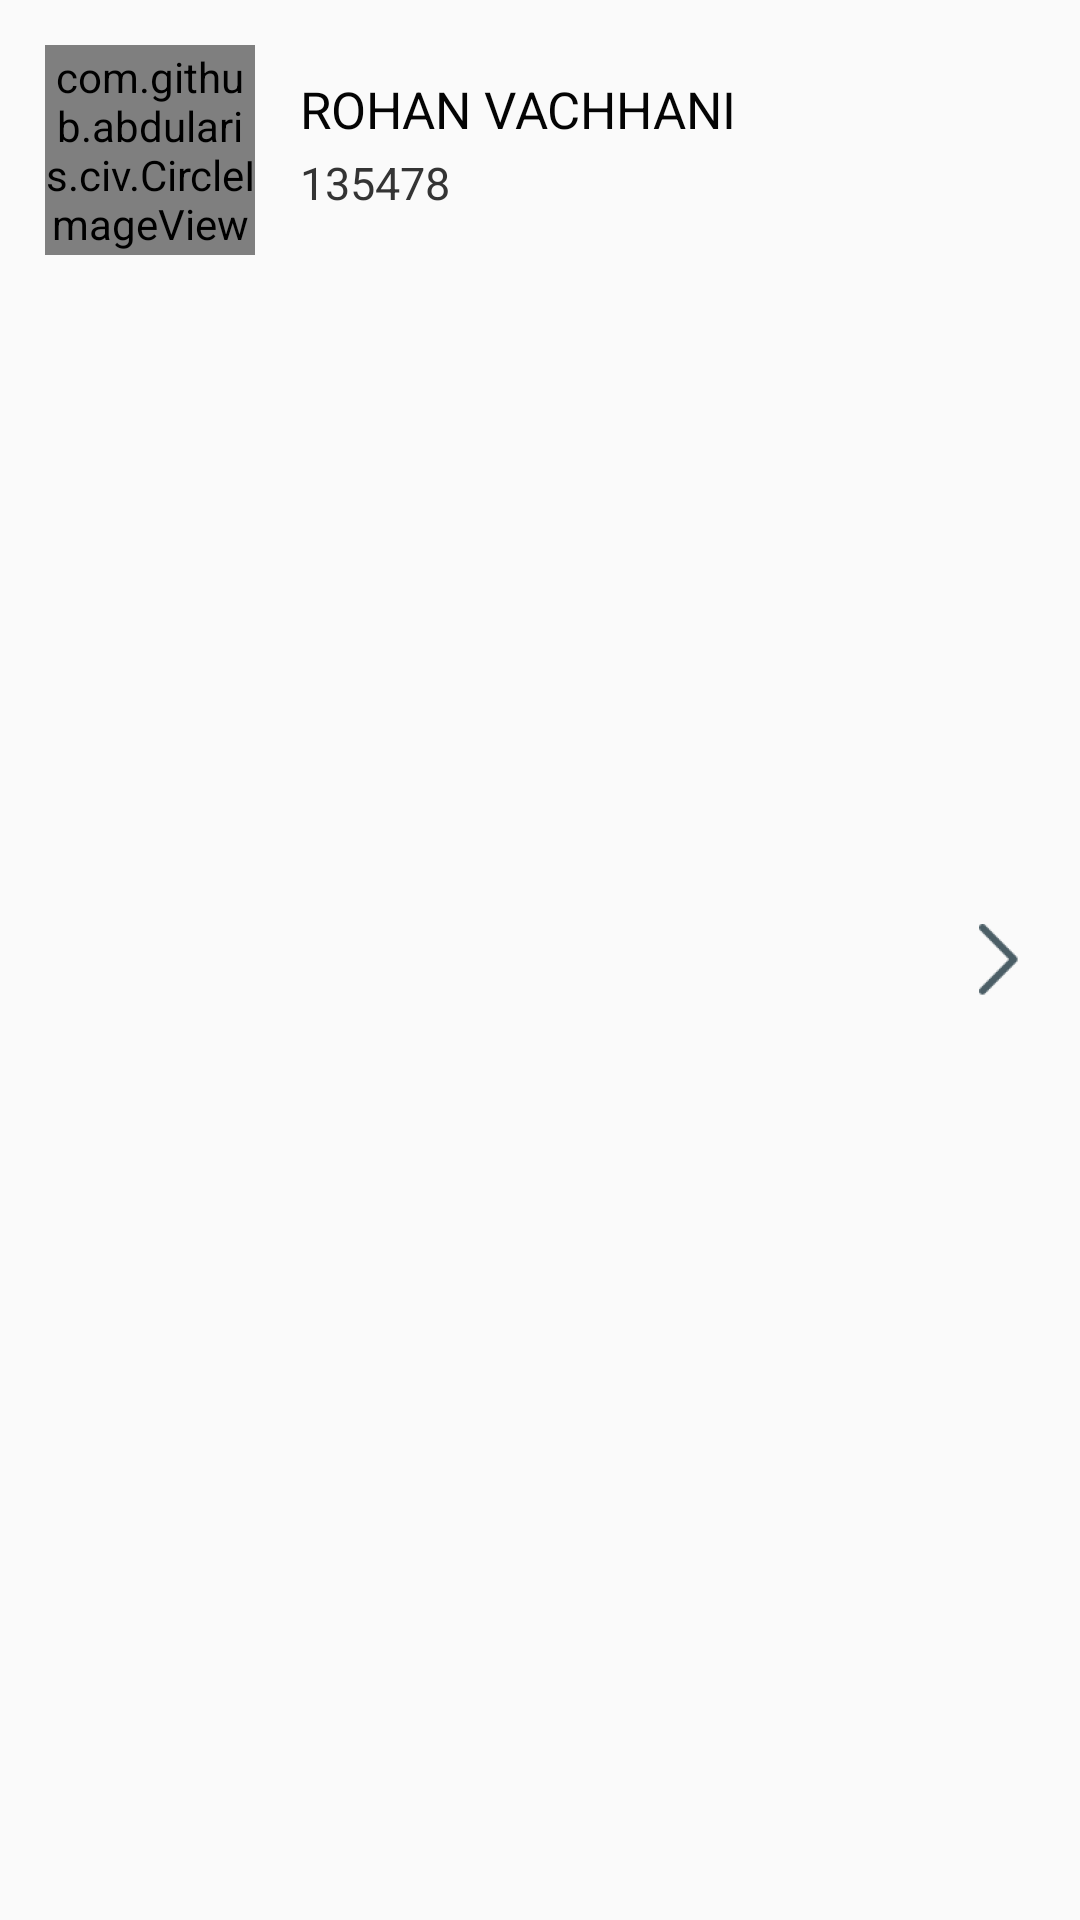

Screen size 1080×1920. Icon name, then its center in pixels as [x,y]:
next: [998,959]
